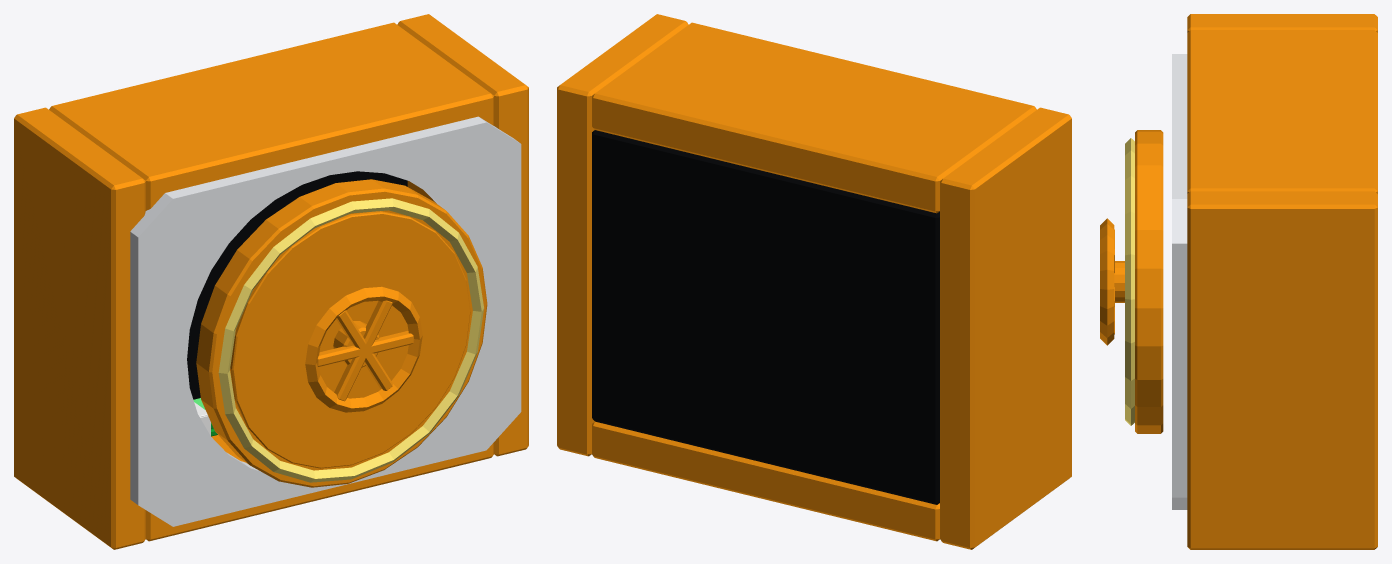
File: vault_gold__v001__model.fbx
The picture shows the model from 3 angles, left to right: view 1: azimuth 30°, elevation 25°; view 2: azimuth 150°, elevation 25°; view 3: azimuth 270°, elevation 25°; orthographic projection. The views are drawn at different scales.
Parts seen in each view (by area): view 1: vault_gold_Mesh, DoorHinge_Mesh, WheelPivot_Mesh; view 2: vault_gold_Mesh; view 3: vault_gold_Mesh, DoorHinge_Mesh, WheelPivot_Mesh.
Part boxes in pixels (<box>): vault_gold_Mesh: <box>14,14,528,549</box>; DoorHinge_Mesh: <box>196,179,487,487</box>; WheelPivot_Mesh: <box>305,286,422,412</box>; vault_gold_Mesh: <box>557,14,1071,549</box>; vault_gold_Mesh: <box>1172,14,1377,549</box>; DoorHinge_Mesh: <box>1125,130,1163,433</box>; WheelPivot_Mesh: <box>1100,218,1124,345</box>.
Bounding box in the file's own units: 4.8 × 4 × 2.92.
1 material, 1 textured.
